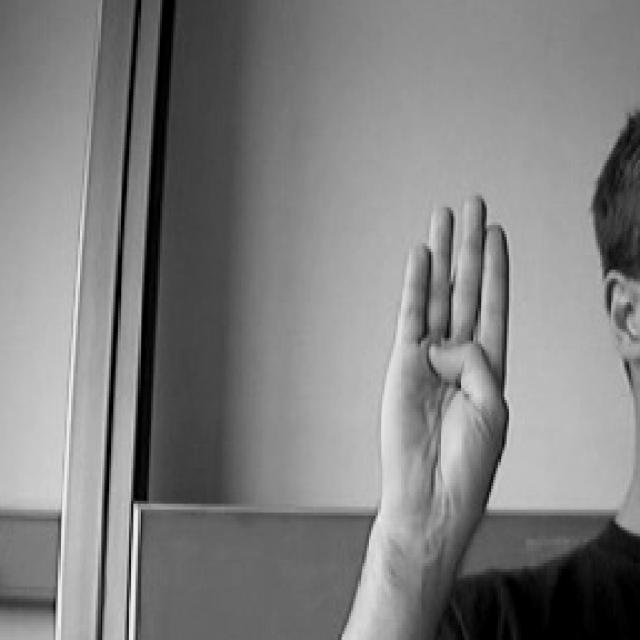B: (367, 176, 527, 556)
